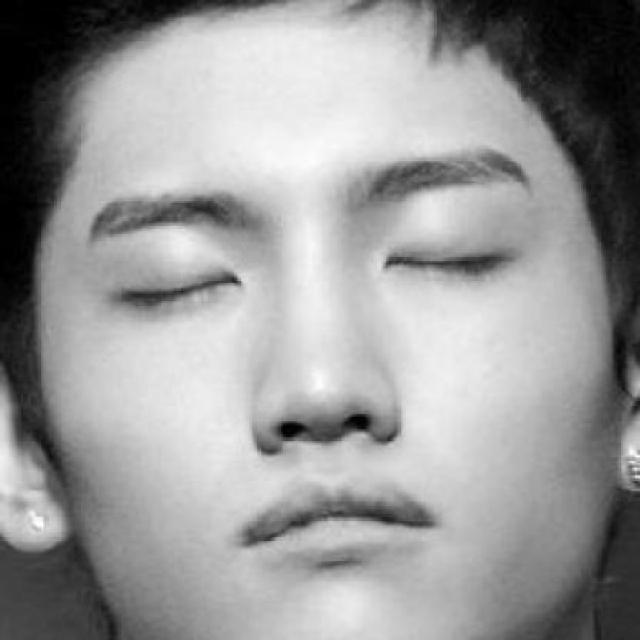drowsy: (384, 233, 514, 284), (114, 264, 240, 314)
